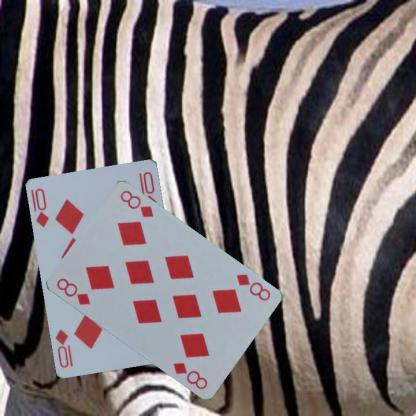10d: (32, 186, 51, 229)
8d: (53, 276, 91, 308), (233, 271, 271, 302)
